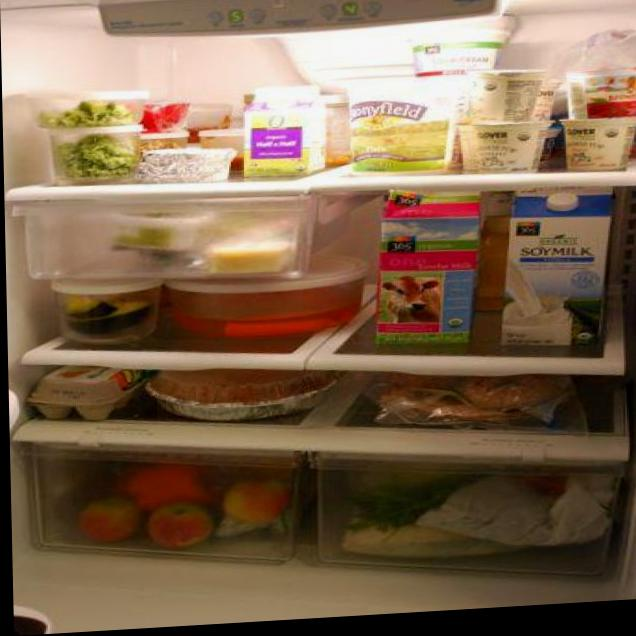apple: (31, 364, 137, 422), (221, 477, 289, 526), (147, 500, 215, 548), (80, 497, 142, 544)
milk: (509, 189, 607, 351), (377, 189, 475, 348)
yoghurt: (407, 18, 515, 76), (554, 114, 636, 173), (462, 119, 550, 173)
